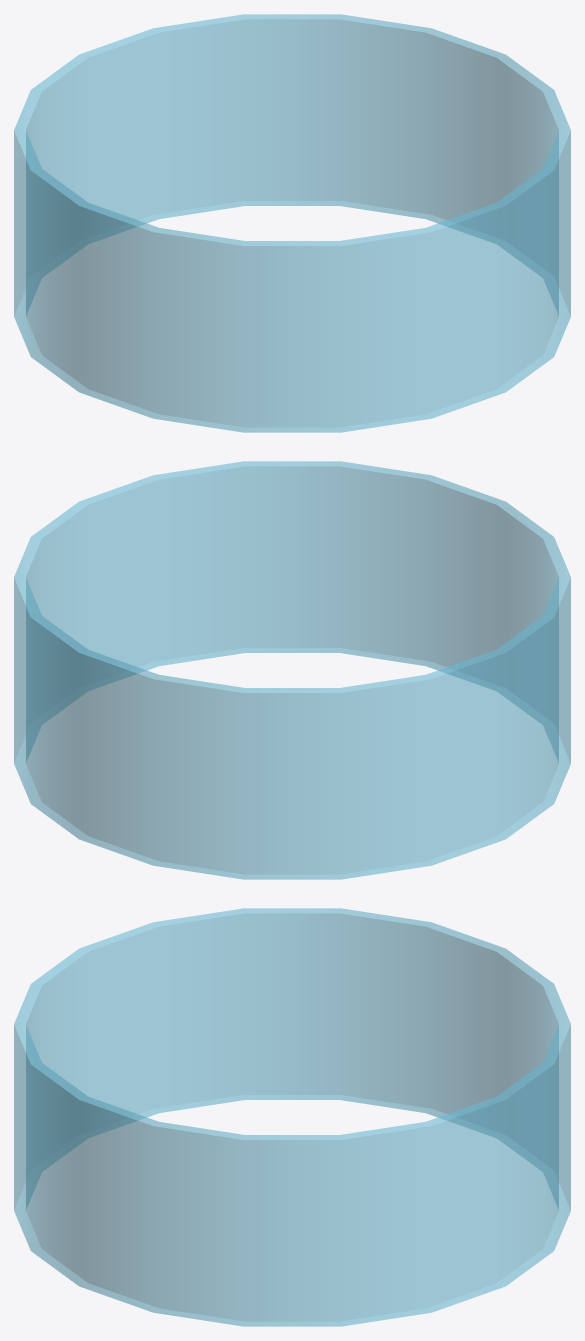
Rendered from ShieldWall.FBX.
3 renders of one model, top to bottom at view 1: azimuth 30°, elevation 25°; view 2: azimuth 150°, elevation 25°; view 3: azimuth 270°, elevation 25°, orthographic.
Visible parts, largest first — view 1: Tube001; view 2: Tube001; view 3: Tube001.
Part boxes in pixels (x1=…): Tube001: x1=14, y1=14, x2=570, y2=432; Tube001: x1=14, y1=461, x2=570, y2=879; Tube001: x1=14, y1=908, x2=570, y2=1326.
Size of the model in its own units: 953 by 968 by 358.
